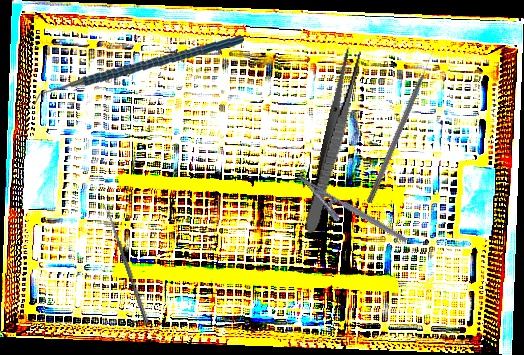Chopper: (28, 21, 244, 125)
Dressing Forceps: (302, 45, 364, 236)
Hook Surgical: (365, 49, 438, 205)
Needle Holder: (288, 173, 408, 258)
Surgical Spoon: (103, 203, 151, 326)
